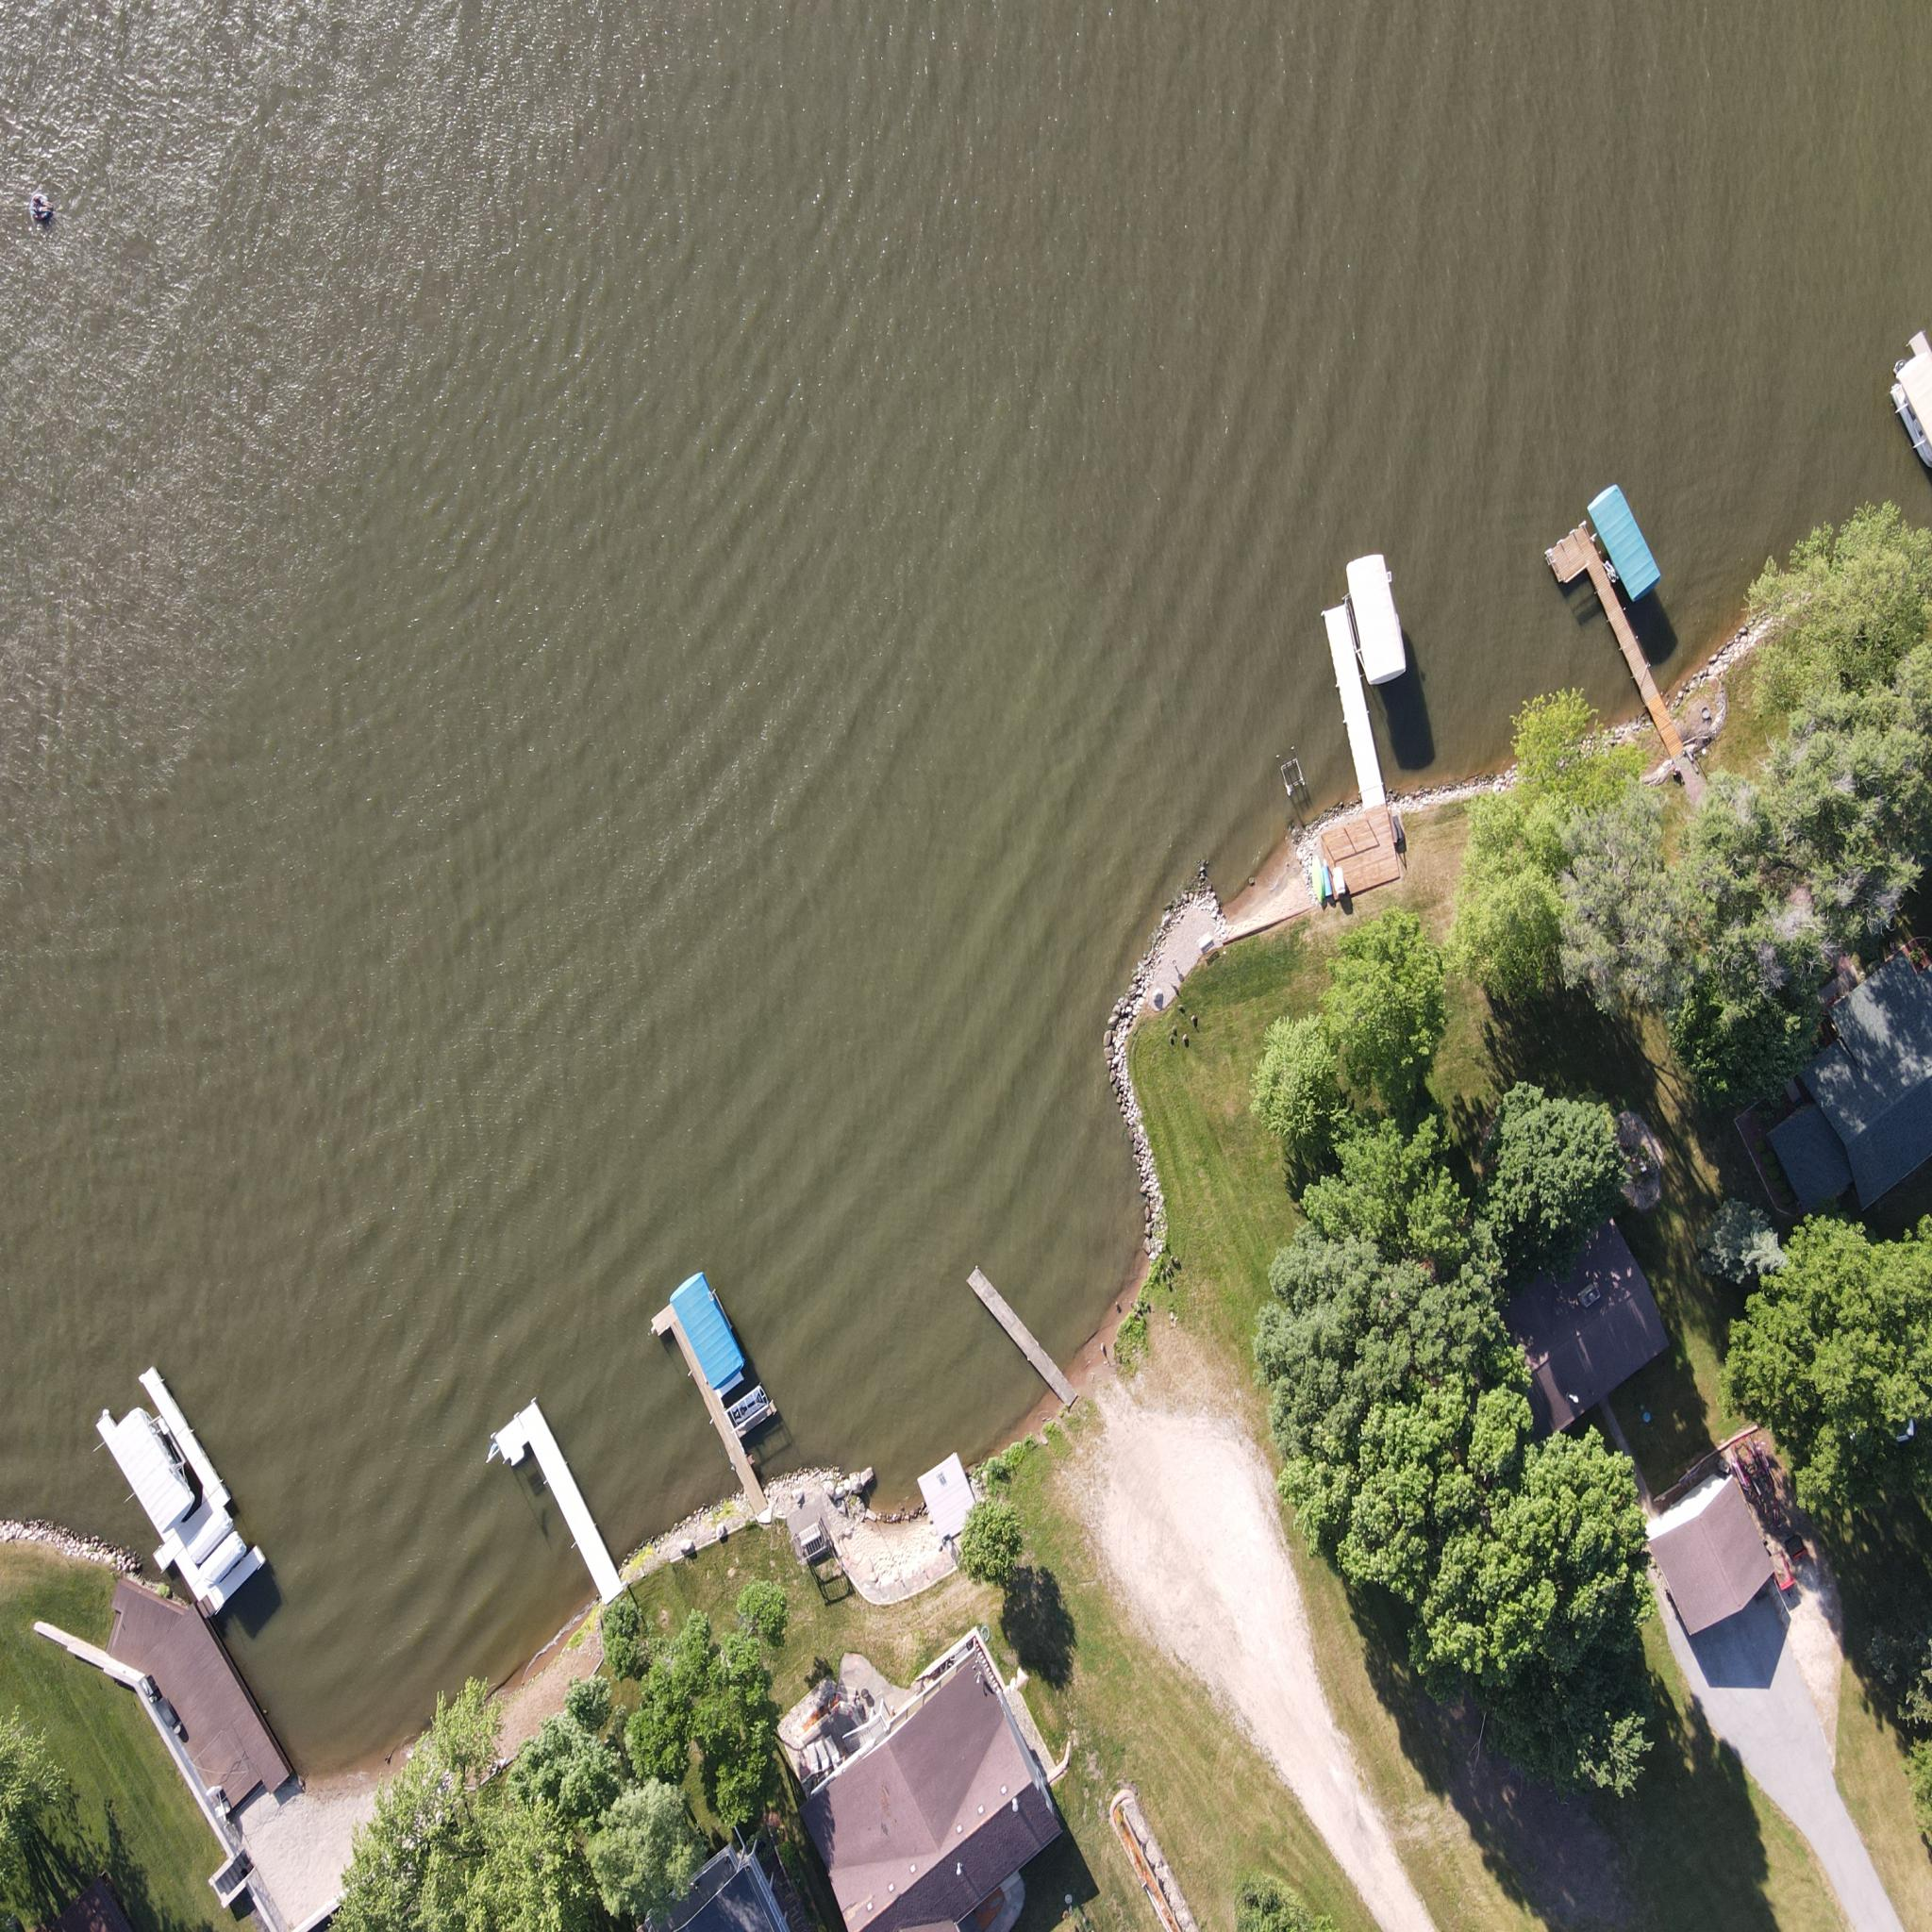dock: (103, 1585, 292, 1812), (96, 1364, 258, 1615), (490, 1401, 625, 1617), (1539, 515, 1661, 731), (649, 1304, 768, 1523), (1307, 593, 1399, 812), (962, 1263, 1086, 1421), (909, 1453, 987, 1536), (1902, 327, 1932, 455)
lift: (1582, 479, 1679, 602), (108, 1407, 198, 1534), (1345, 547, 1414, 709), (669, 1270, 752, 1398), (1893, 349, 1932, 474)
